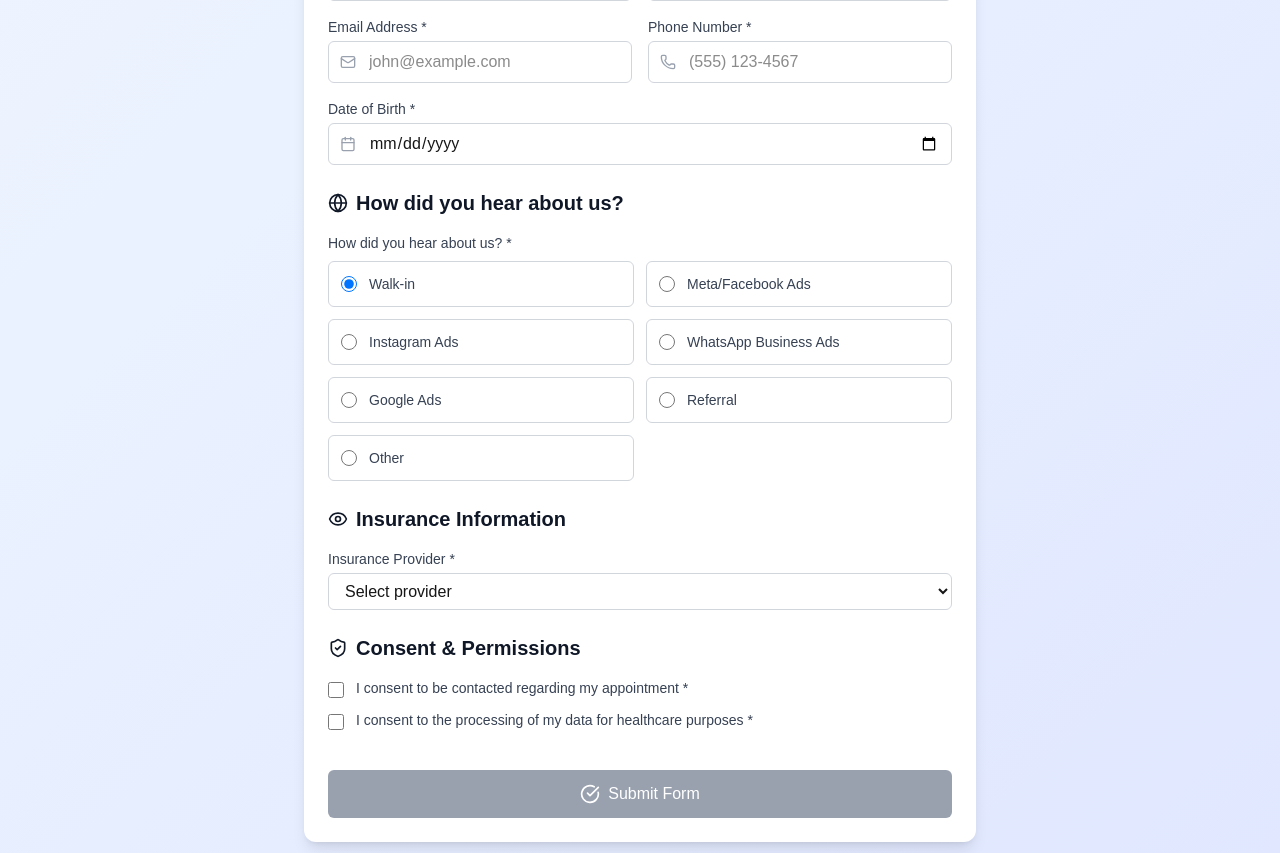
Test case: IntakeForm › shows insurance plan field when provider is selected
(page scrolled)
# Select insurance provider
Select "VSP" in the dropdown labelled "Insurance Provider *". click: (640, 592)
box: [328,573,952,610]
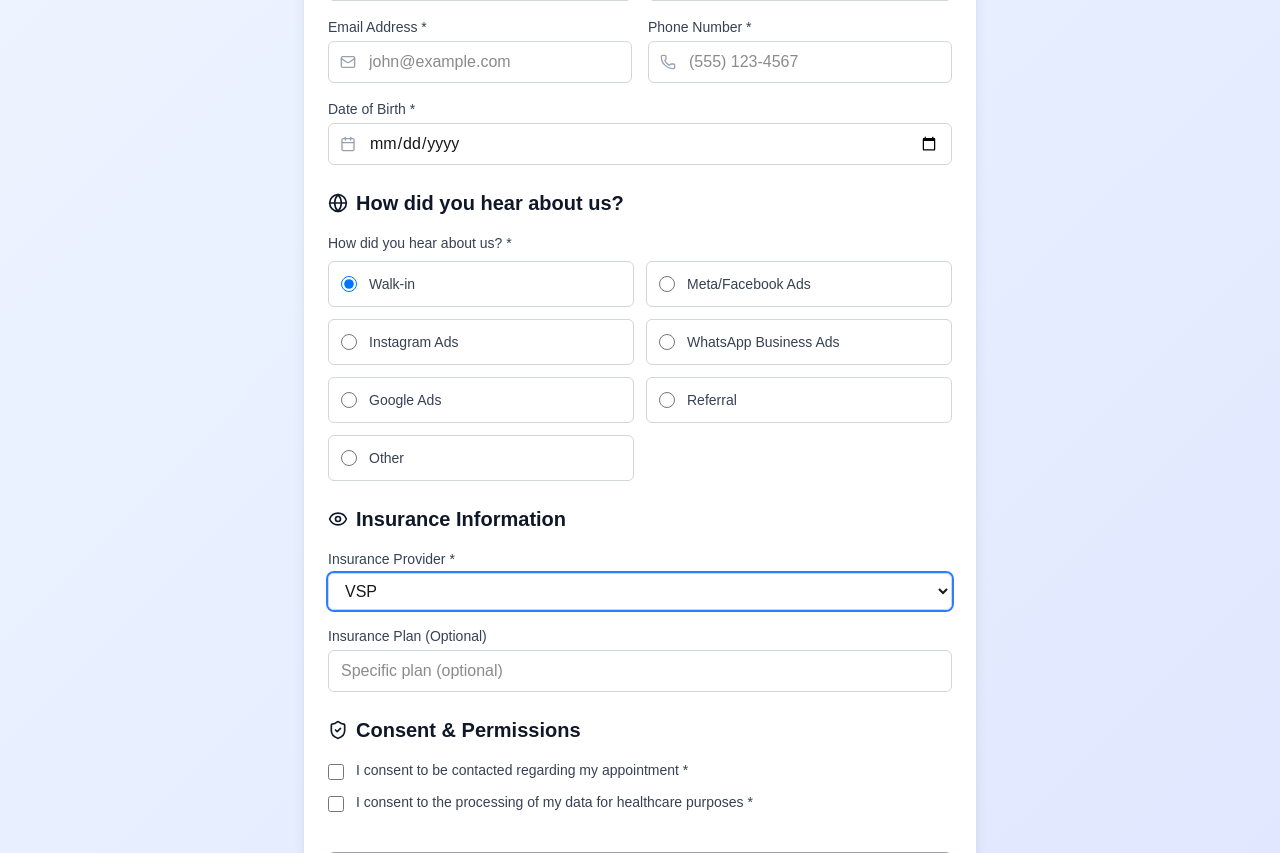
Expected: the field labelled "Insurance Plan (Optional)" is shown, [328,650,952,692]
